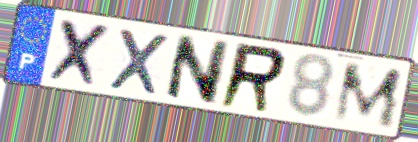8: (283, 52, 341, 122)
M: (330, 61, 406, 130)
N: (162, 32, 233, 107)
R: (215, 40, 290, 116)
X: (45, 17, 116, 91), (106, 26, 172, 99)
